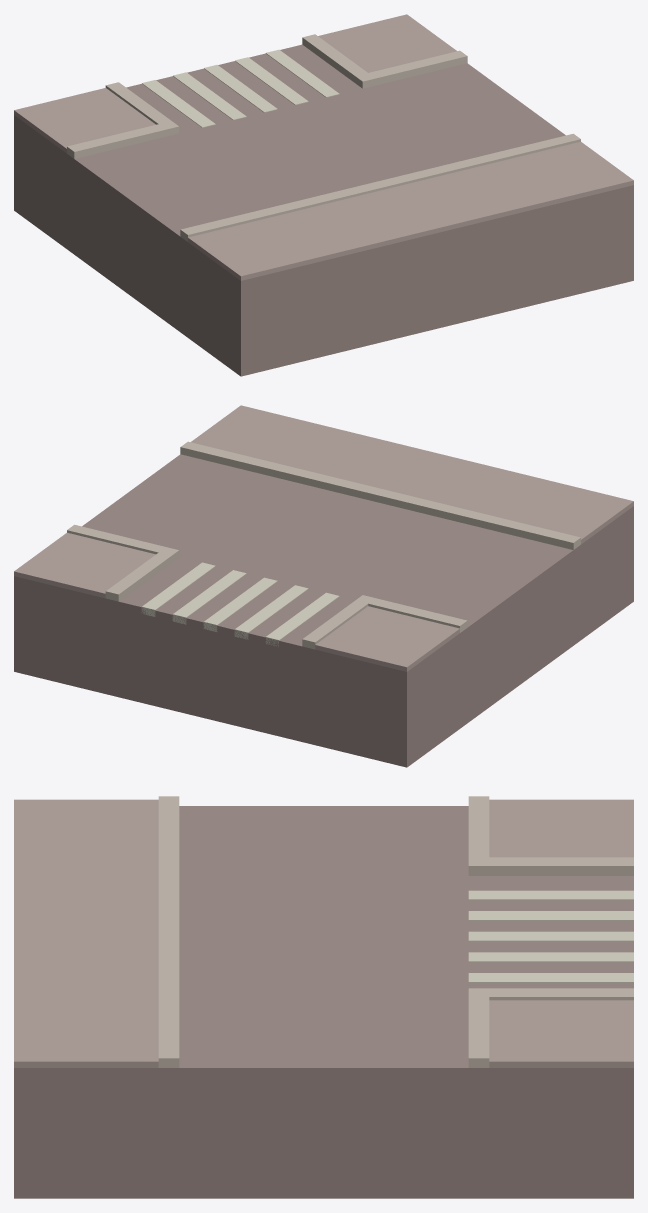
Rendered from Road_T_Crossing.fbx.
3 renders of one model, top to bottom at view 1: azimuth 30°, elevation 25°; view 2: azimuth 150°, elevation 25°; view 3: azimuth 270°, elevation 25°, orthographic. The views are drawn at different scales.
Parts seen in each view (by area): view 1: Road_T_Crossing; view 2: Road_T_Crossing; view 3: Road_T_Crossing.
Part boxes in pixels (left/top/right/bottom): Road_T_Crossing: left=14, top=14, right=633, bottom=376; Road_T_Crossing: left=14, top=405, right=633, bottom=767; Road_T_Crossing: left=14, top=796, right=633, bottom=1198.
Bounding box in the file's own units: 400 × 100 × 400.
